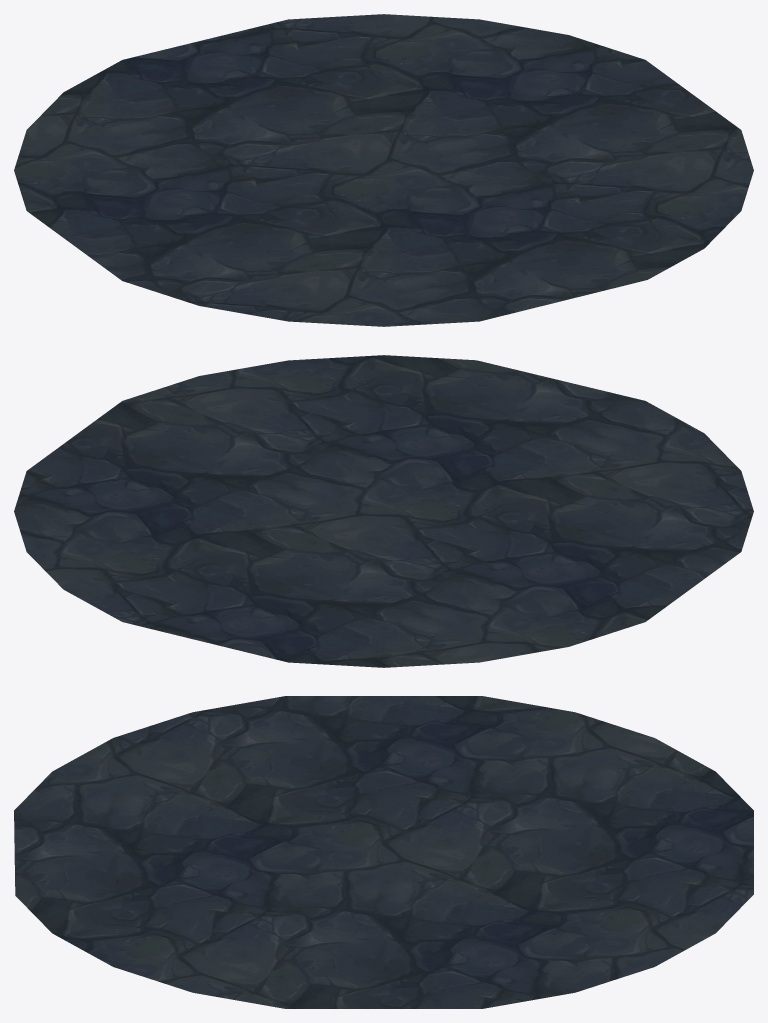
The model's file is sn_jiguan_baseframe_003.FBX.
The picture shows the model from 3 angles, top to bottom: view 1: azimuth 30°, elevation 25°; view 2: azimuth 150°, elevation 25°; view 3: azimuth 270°, elevation 25°; orthographic projection. The views are drawn at different scales.
Visible parts, largest first — view 1: sn_jiguan_baseframe_003; view 2: sn_jiguan_baseframe_003; view 3: sn_jiguan_baseframe_003.
Part boxes in pixels (<box>): sn_jiguan_baseframe_003: <box>14,14,753,326</box>; sn_jiguan_baseframe_003: <box>14,355,753,667</box>; sn_jiguan_baseframe_003: <box>14,696,753,1008</box>.
Bounding box in the file's own units: 1825 × 0 × 1825.
